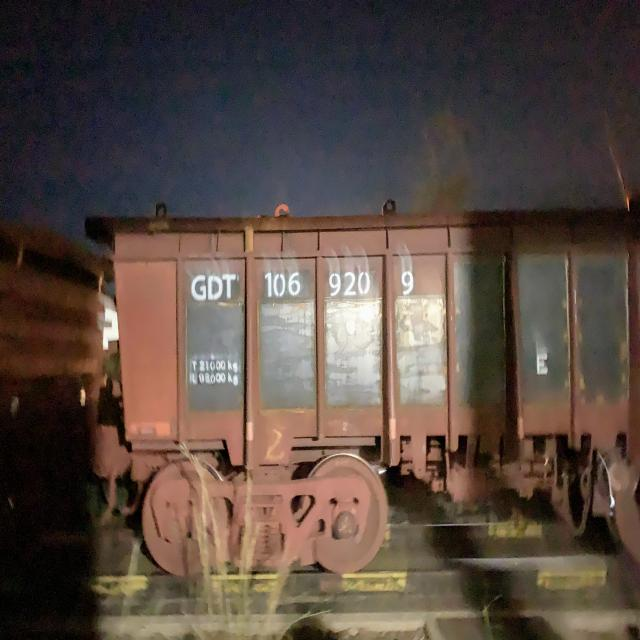boxcar: (103, 194, 640, 570)
